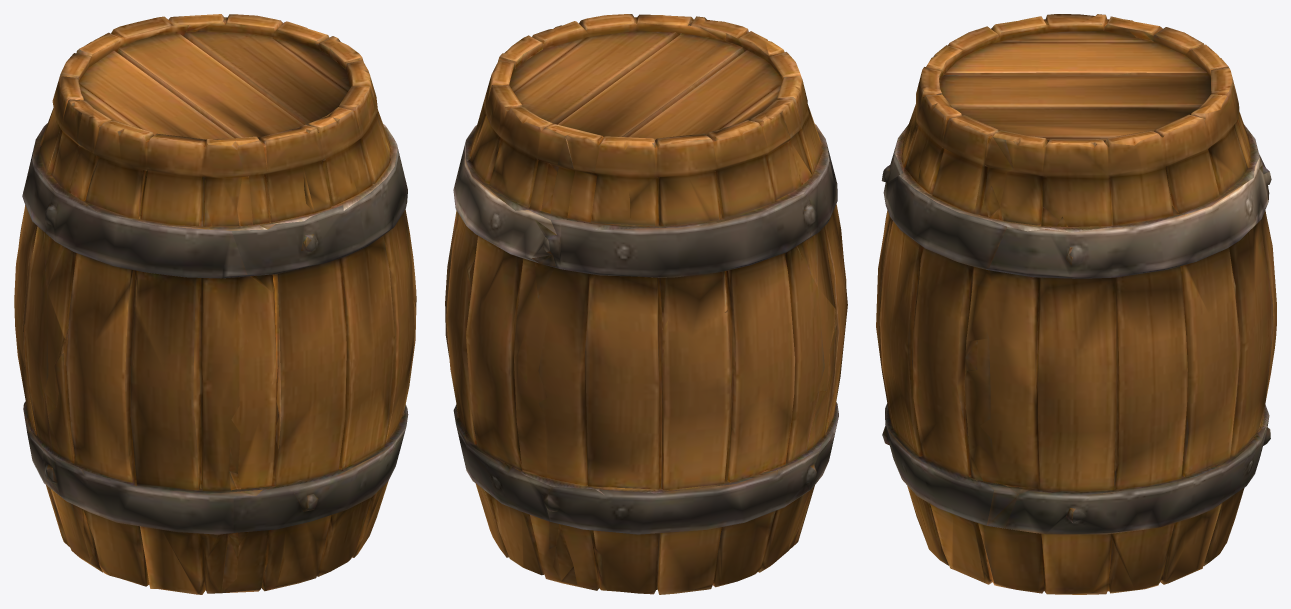
Rendered from barrel-iron.glb.
3 renders of one model, left to right at view 1: azimuth 30°, elevation 25°; view 2: azimuth 150°, elevation 25°; view 3: azimuth 270°, elevation 25°, orthographic.
Visible parts, largest first — view 1: Mesh1.0; view 2: Mesh1.0; view 3: Mesh1.0.
Part boxes in pixels (x1,y1,x2,y2): Mesh1.0: (14,14,416,594); Mesh1.0: (445,14,847,594); Mesh1.0: (876,14,1276,594).
Bounding box in the file's own units: 1.52 × 1.9 × 1.52.
1 material, 1 textured.
